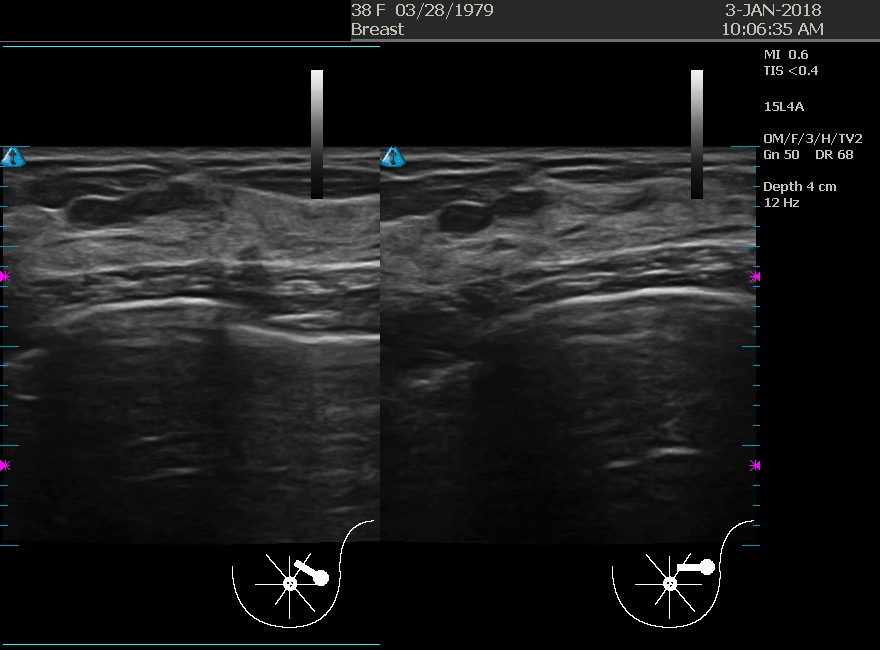BIRADS_4: (40, 172, 240, 372), (425, 173, 625, 373)
